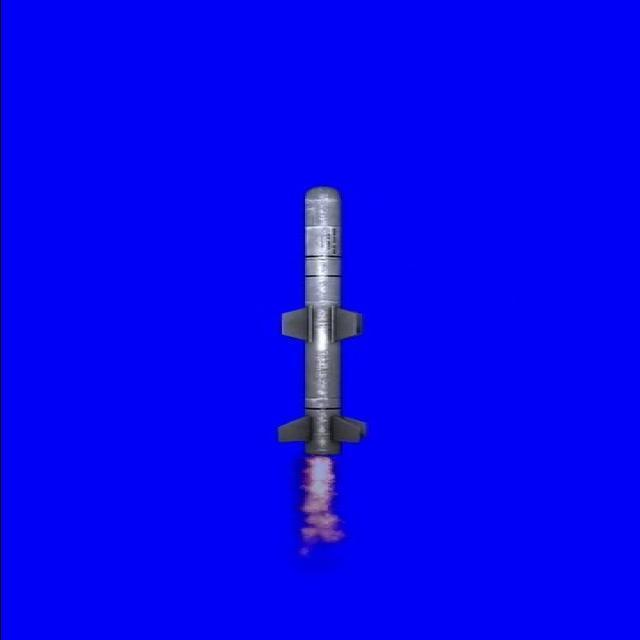Missile: (270, 174, 382, 459)
